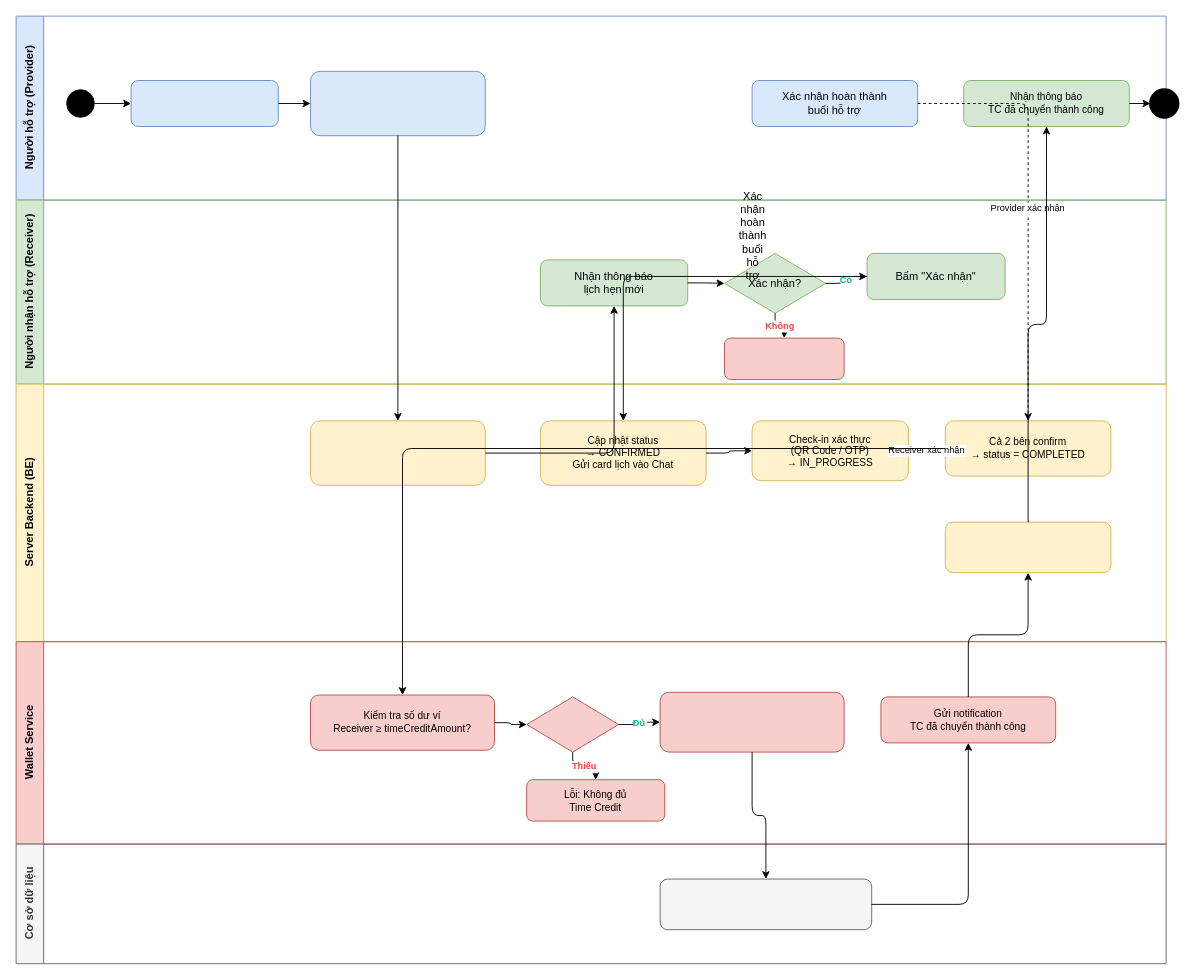
Some shapes in this 1195 by 980 pixel diagram are drawn without their labels. The centre of each missing label's shape, as x and y in pixels:
Bấm "Tạo lịch hẹn" trong Chat: point 204,103
completedSessions += 1 cho cả 2 người dùng: point 1027,547
INSERT appointment; UPDATE wallet (x2); INSERT wallet_transaction (x2): point 765,904
Nhập: Tiêu đề, Ngày, Giờ, Hình thức, Địa điểm/Link, Time Credit: point 397,103
Trừ TC ví Receiver Cộng TC ví Provider Tạo 2 WalletTransaction: point 751,721
Tạo Appointment status = PENDING Gửi notification cho Receiver: point 397,452
Từ chối (Lịch bị hủy): point 784,358
Đủ số dư?: point 572,724
